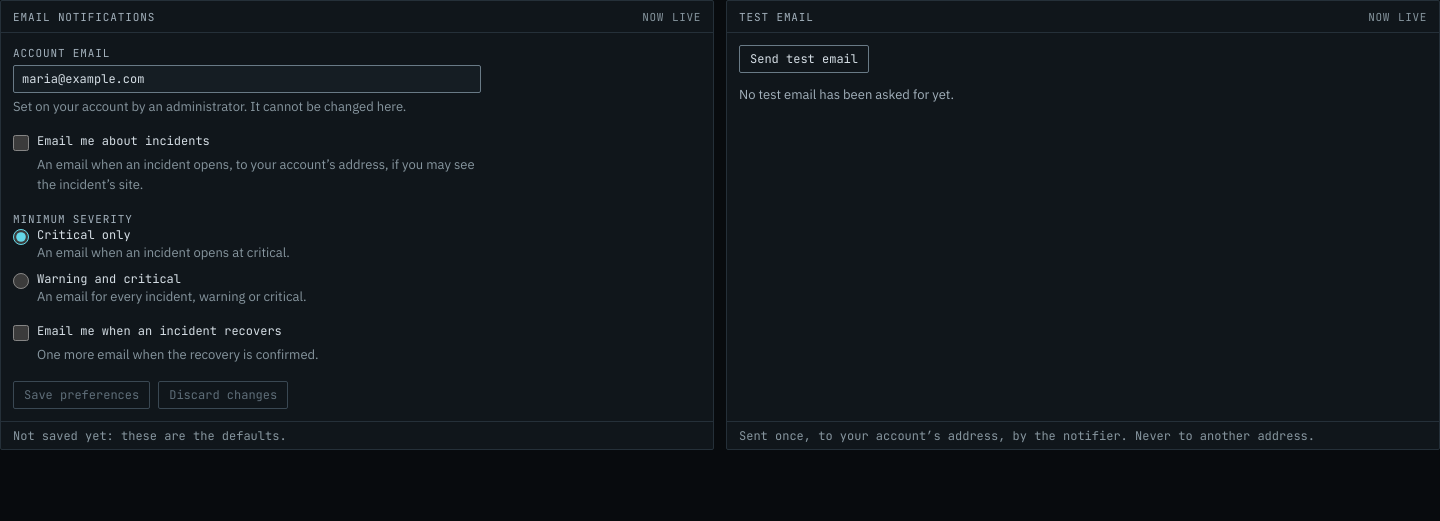
Test: saving the preferences › takes the server’s answer for the preferences, not its own idea of them
Click the checkbox labelled "Email me about incidents" at x=21, y=143, box [13,135,29,151]
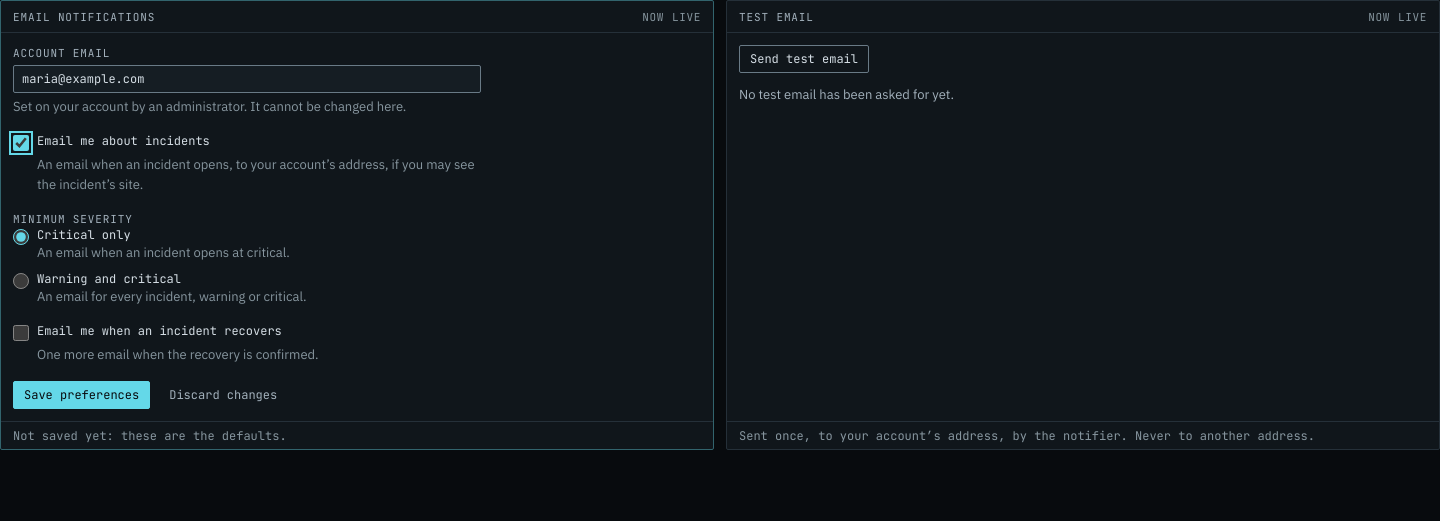
Click the checkbox labelled "Email me when an incident recovers" at x=21, y=333, box [13,325,29,341]
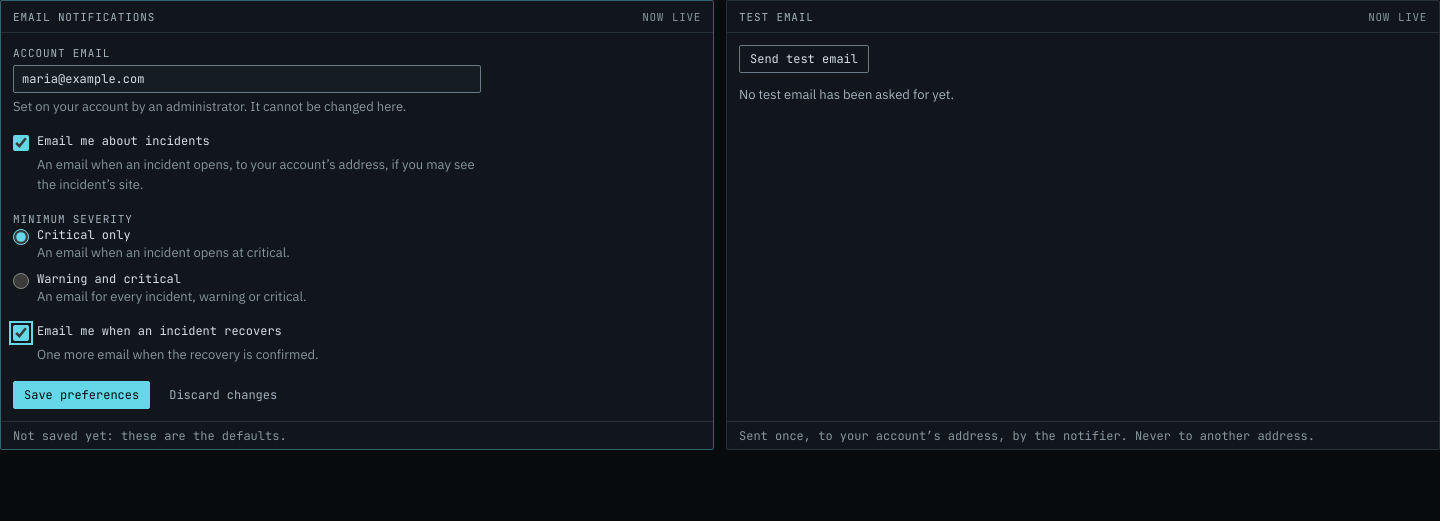
Click the button "Save preferences" at x=82, y=395, box [13,381,150,409]
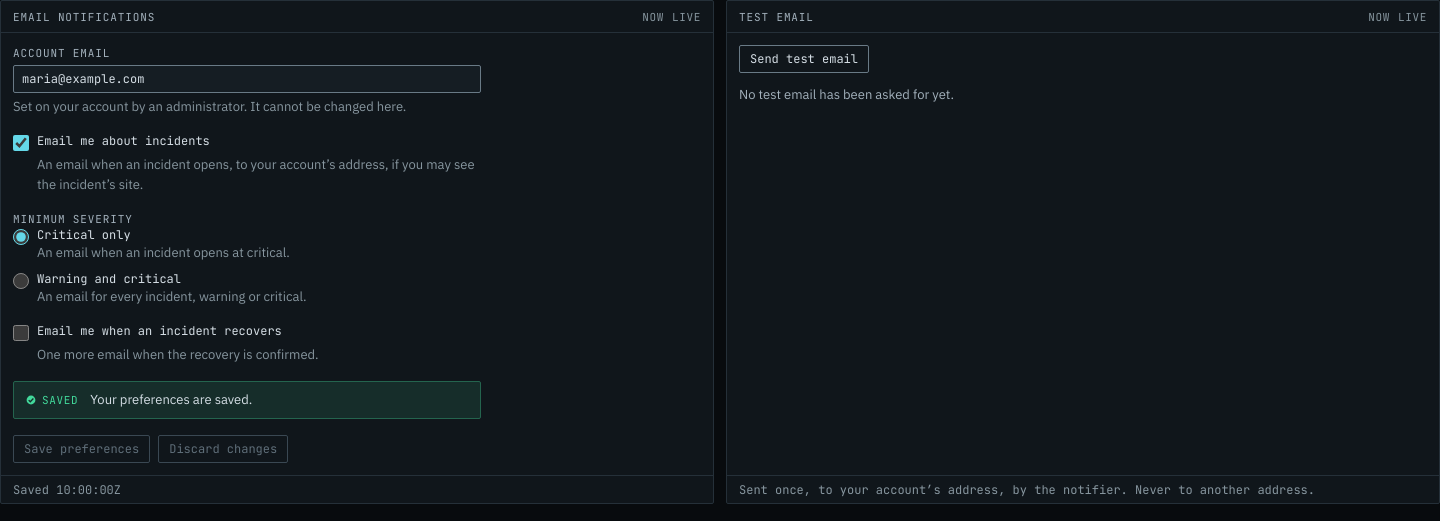
Check: the checkbox labelled "Email me when an incident recovers" is not checked, box [13,325,29,341]
Check: the text "Your preferences are saved." is shown, box [90,391,252,408]
